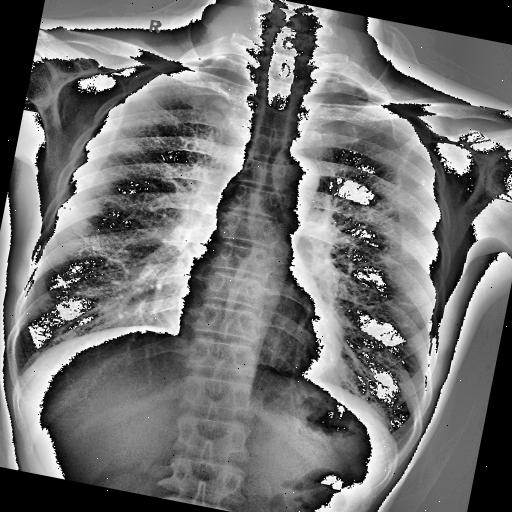2- Calcification: (412, 176, 428, 188), (420, 179, 428, 186)
8- Nodule-Mass: (208, 94, 232, 113), (209, 97, 231, 112), (418, 178, 426, 186)
